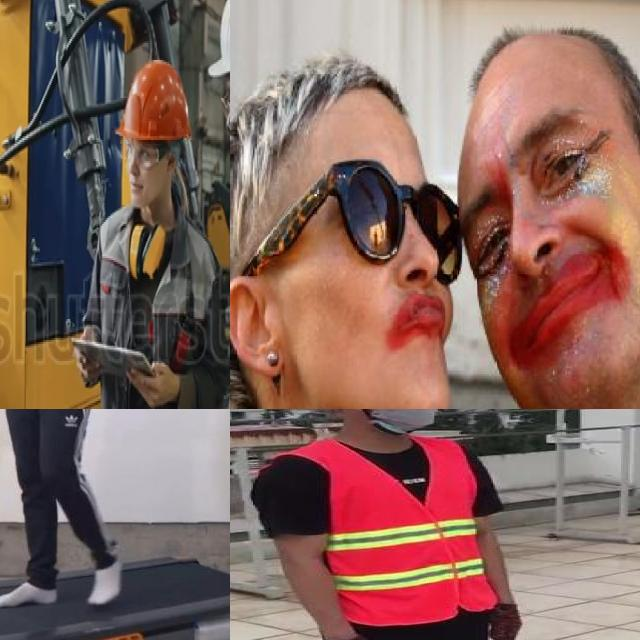Ear-protection: (132, 206, 168, 285)
No_Ear-Protection: (230, 273, 290, 375)
face_mask: (364, 409, 450, 429)
face_nomask: (460, 142, 623, 356), (336, 158, 454, 382)
glasses: (320, 159, 467, 282), (121, 136, 169, 174), (213, 87, 230, 121)
hand_glove: (494, 604, 521, 640)
head_helmet: (116, 54, 198, 141)
head_nohelmet: (244, 57, 416, 152), (451, 21, 632, 102)
person: (230, 64, 447, 409), (451, 19, 640, 409), (245, 409, 539, 640), (72, 54, 225, 409), (0, 409, 123, 608)
vest: (324, 438, 493, 623)
